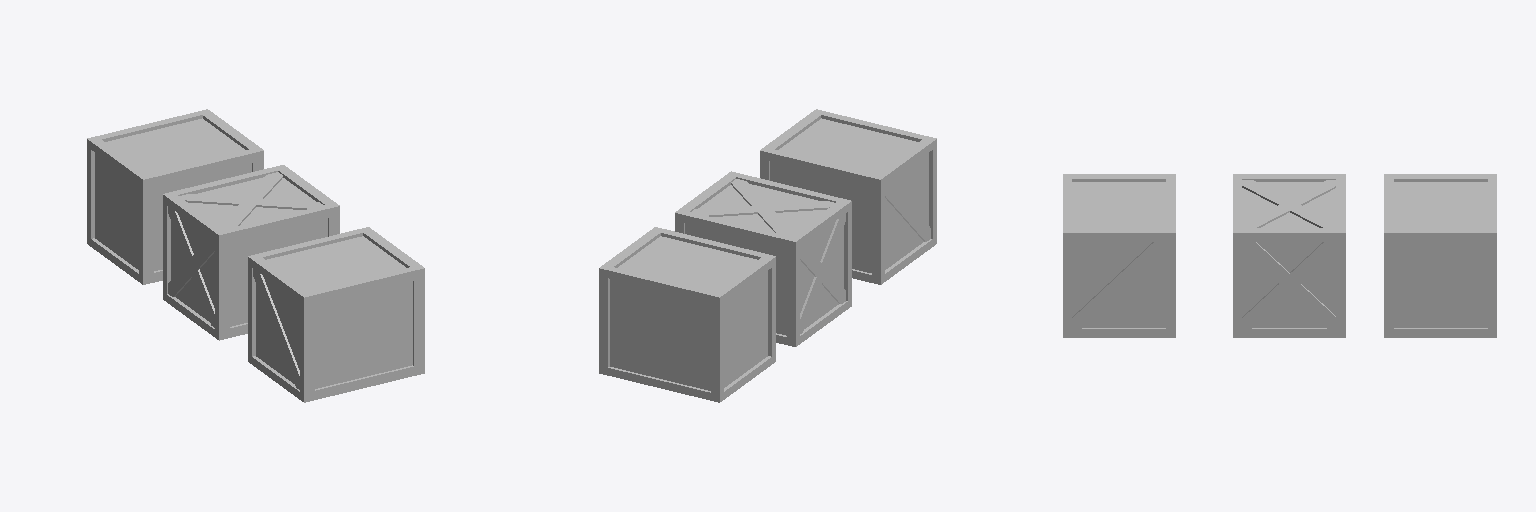
The model's file is cajas.obj.
3 views of the same model, side by side, from view 1: azimuth 30°, elevation 25°; view 2: azimuth 150°, elevation 25°; view 3: azimuth 270°, elevation 25° (orthographic).
Visible parts, largest first — view 1: Boxes; view 2: Boxes; view 3: Boxes.
Boxes of the visible parts, x1=… form: Boxes: x1=87, y1=109, x2=424, y2=402; Boxes: x1=599, y1=109, x2=936, y2=402; Boxes: x1=1063, y1=174, x2=1496, y2=337.
Size of the model in its own units: 34.69 by 28.81 by 108.